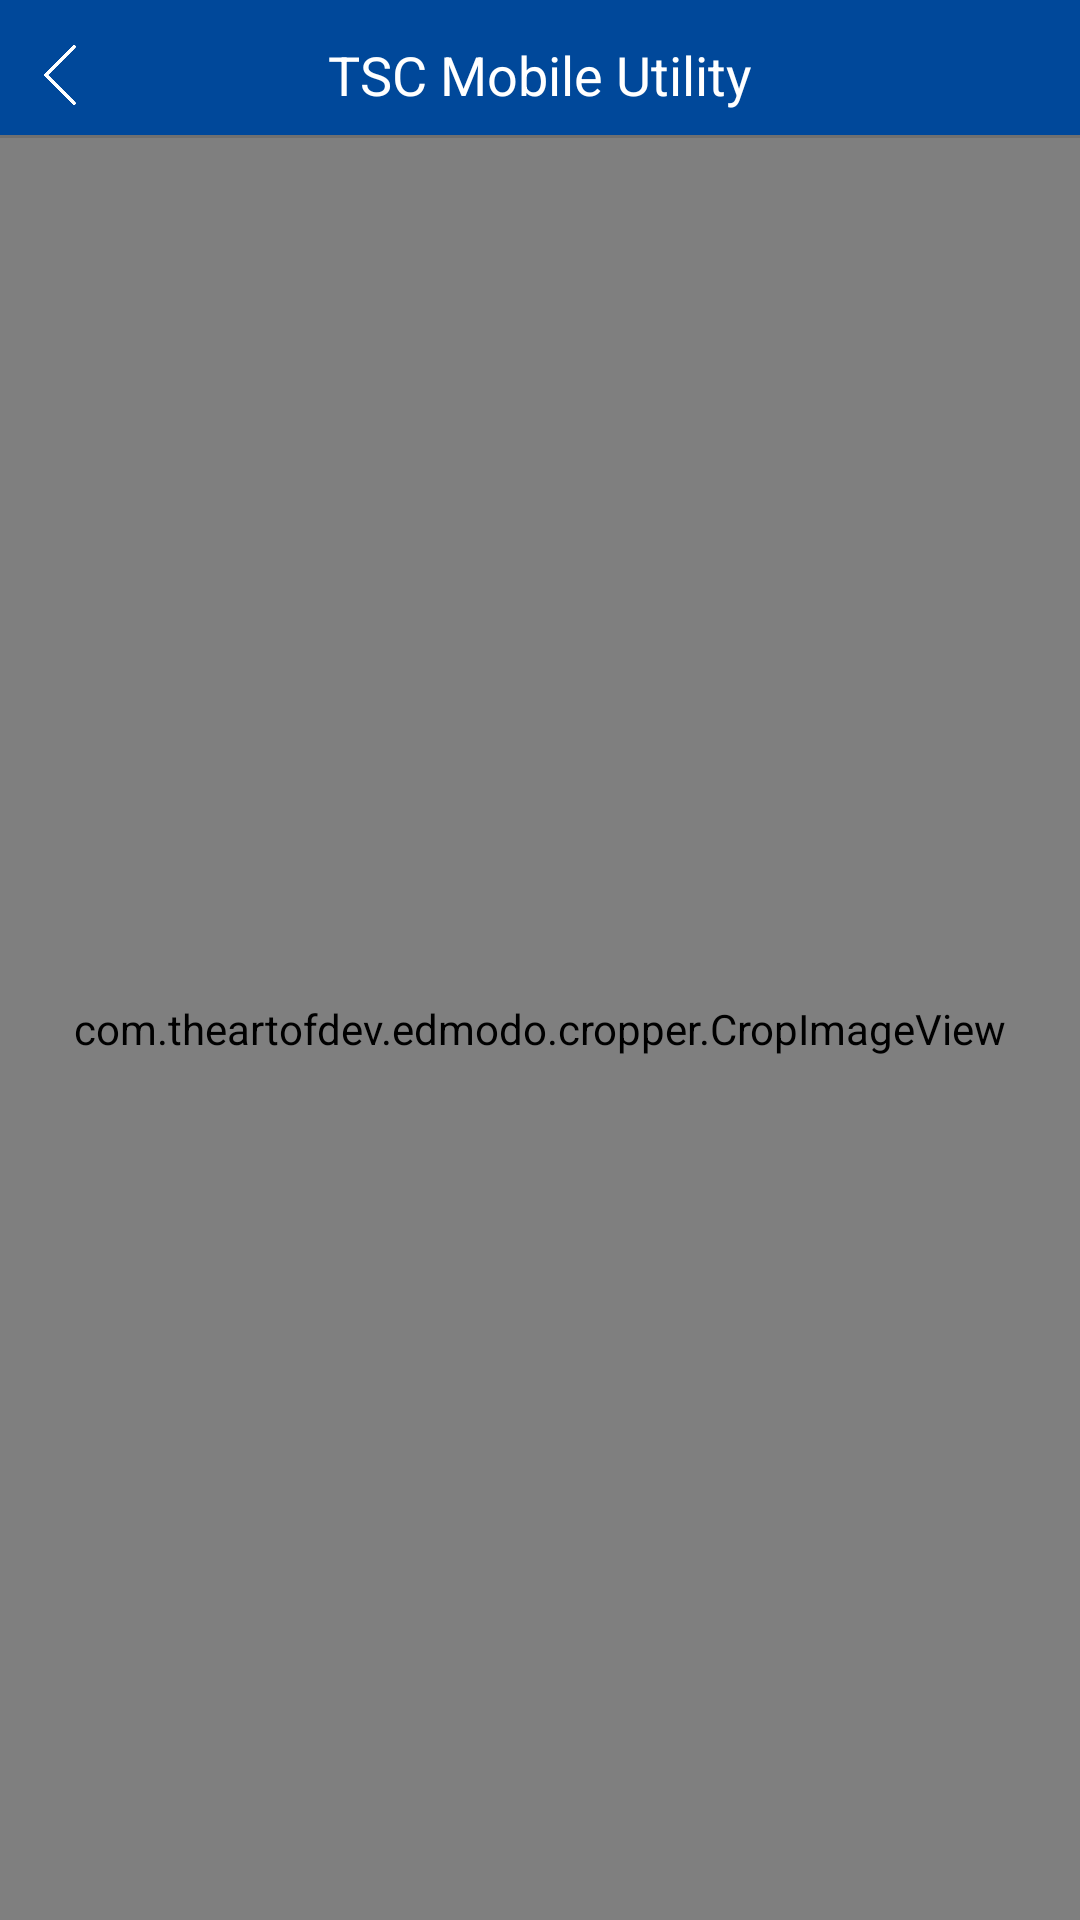

Icons on this 1080 × 1920 Android screen, each with its box as (x1, y1, x2, y2):
arrow left: (44, 45, 76, 105)
